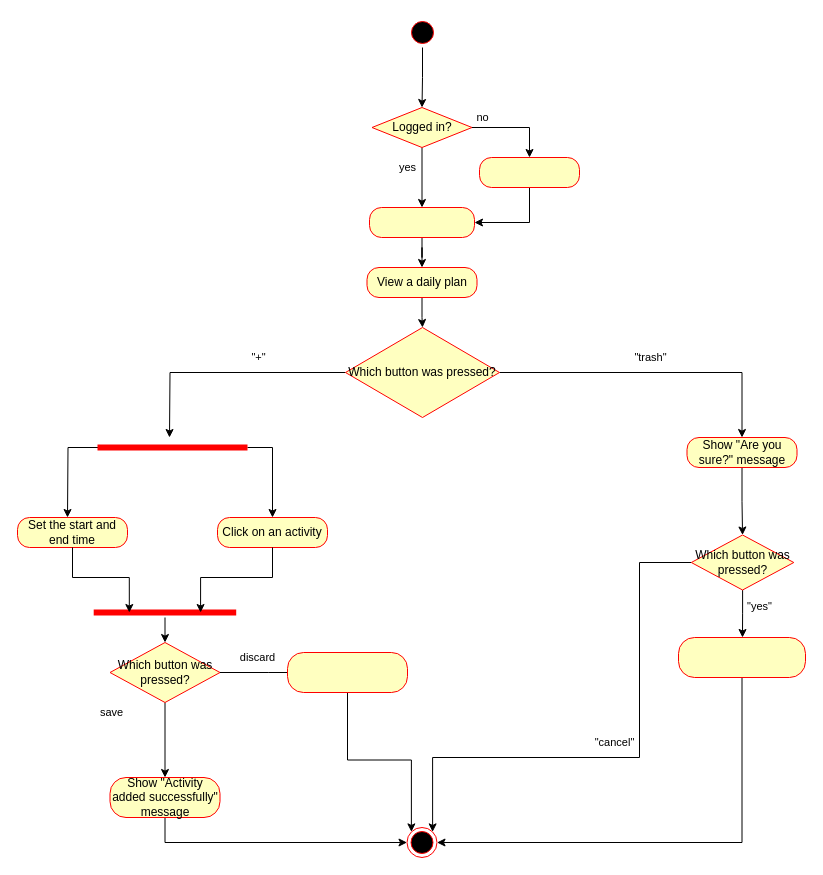
Some shapes in this 823 by 875 pixel diagram are drawn without their labels. Here are the shapes that lost their labels. From the top down, the centre of each, then its label:
[529,172]: Log in
[421,222]: Click on a trip plan
[347,672]: Show "Changes discarded" message
[742,657]: Show "Activity removed successfully" message
